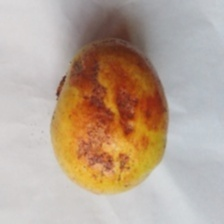guava: (26, 37, 171, 189)
